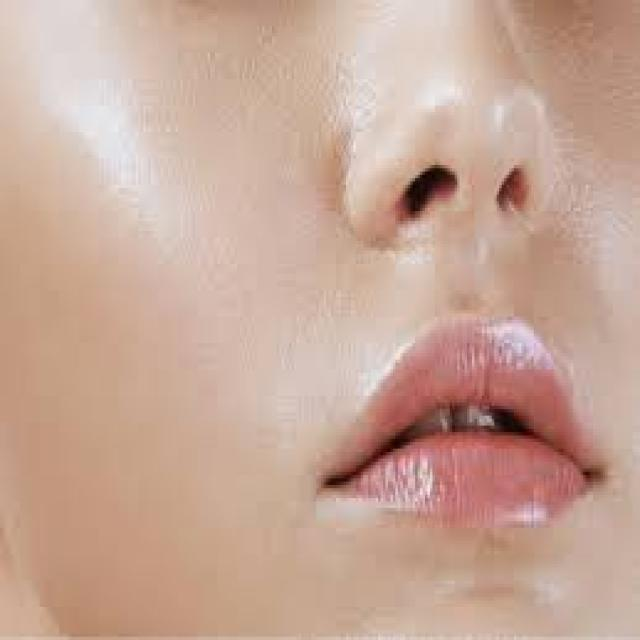Oily-Skin: (58, 88, 147, 192), (444, 58, 550, 140), (439, 223, 542, 307)
